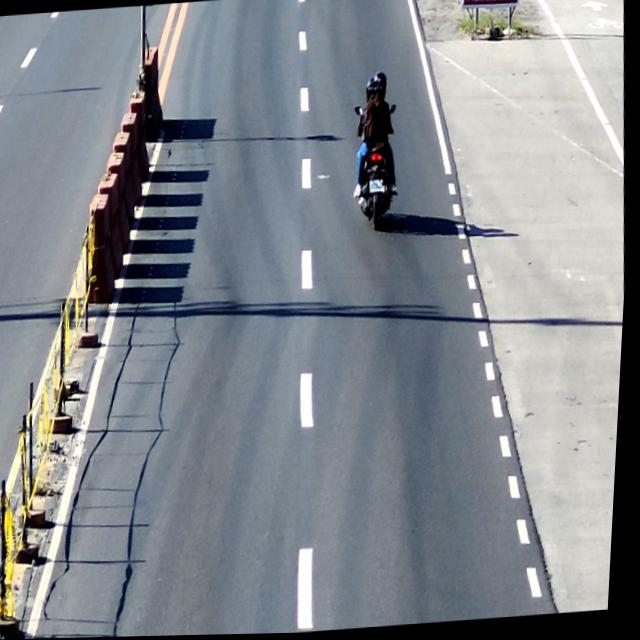Motorcycle: (346, 86, 411, 240)
